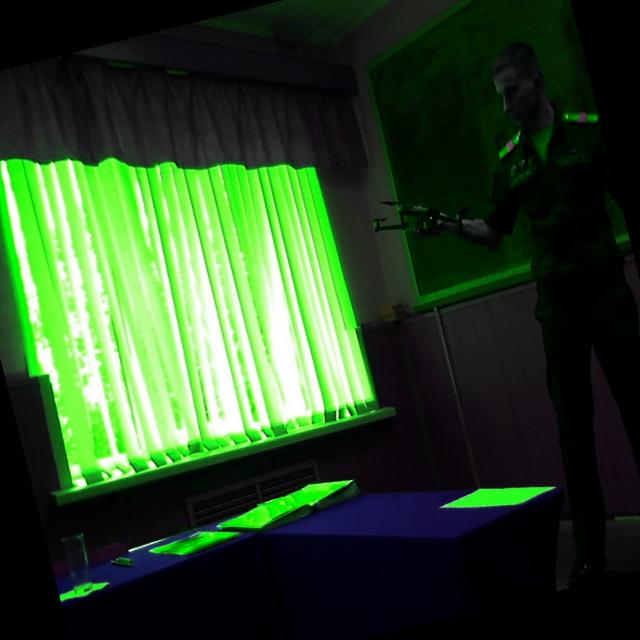drone: (344, 157, 484, 266)
